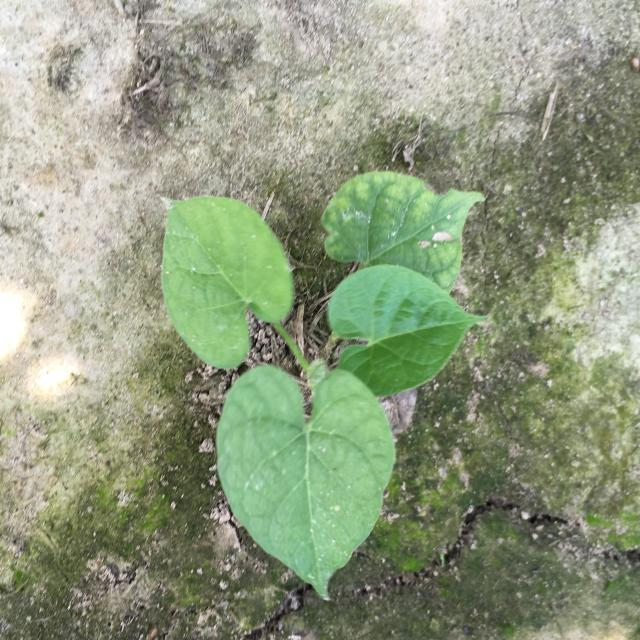MorningGlory: (160, 171, 490, 602)
